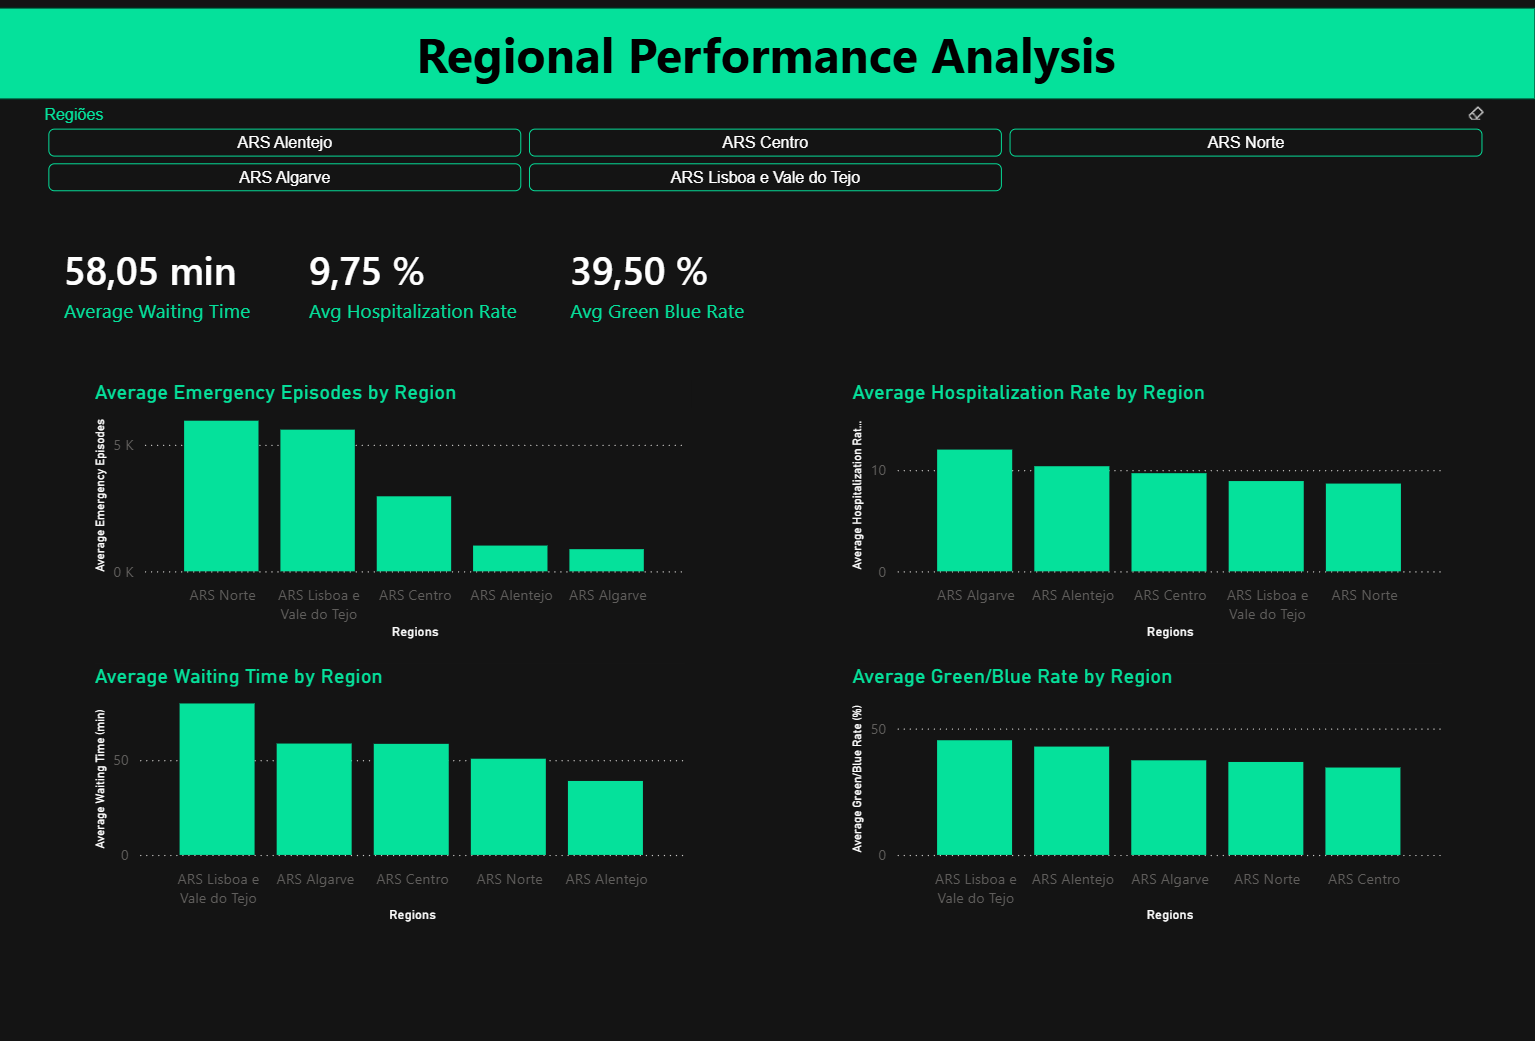

The dashboard page shown, as its layout file describes it:
{"tool":"powerbi","page":{"name":"Regional Performance","canvas":[1280,900],"ordinal":1},"visuals":[{"type":"shape","box":[0,30.2,1279.8,76.8],"z":0},{"type":"shape","box":[5.5,35.7,1270.7,65.9],"z":1},{"type":"ChicletSlicer1448559807354","fields":{"Category":["healthcare-cleaned.ars"]},"box":[36.6,107,1207.6,100.6],"z":2},{"type":"clusteredColumnChart","title":"Average Emergency Episodes by Region","fields":{"Category":["healthcare-cleaned.ars"],"Y":["healthcare-cleaned.Avg Emergency Episodes"]},"box":[77.9,339.5,500.5,220.1],"z":3},{"type":"clusteredColumnChart","title":"Average Hospitalization Rate by Region","fields":{"Category":["healthcare-cleaned.ars"],"Y":["healthcare-cleaned.Avg Hospitalization Rate"]},"box":[707.1,339.5,500.5,220.1],"z":4},{"type":"clusteredColumnChart","title":"Average Green/Blue Rate by Region","fields":{"Category":["healthcare-cleaned.ars"],"Y":["healthcare-cleaned.Avg Green Blue Rate"]},"box":[707.1,575.2,500,220],"z":5},{"type":"cardVisual","fields":{"Data":["healthcare-cleaned.Avg_waiting_time"]},"box":[36.3,200.4,203.5,118.4],"z":6},{"type":"cardVisual","fields":{"Data":["healthcare-cleaned.Avg Hospitalization Rate"]},"box":[239.8,200.4,217,118.4],"z":7},{"type":"cardVisual","fields":{"Data":["healthcare-cleaned.Avg Green Blue Rate"]},"box":[456.9,200.4,203.5,118.4],"z":8},{"type":"clusteredColumnChart","title":"Average Waiting Time by Region","fields":{"Category":["healthcare-cleaned.ars"],"Y":["healthcare-cleaned.Avg_waiting_time"]},"box":[77.9,575.2,500,220],"z":9},{"type":"slicer","fields":{"Values":["healthcare-cleaned.periodo"]},"box":[720.6,207.7,433,102.8],"z":10}]}

Visuals, with their boxes on the page's 1280x900 design canvas (x1, y1, x2, y2). These are canvas units, not pixel positions in the 1535x1041 screenshot, which may show the page scaled, cropped or inside an application window:
shape: region(0, 30, 1280, 107)
shape: region(6, 36, 1276, 102)
ChicletSlicer1448559807354 - healthcare-cleaned.ars: region(37, 107, 1244, 208)
"Average Emergency Episodes by Region" clusteredColumnChart: region(78, 340, 578, 560)
"Average Hospitalization Rate by Region" clusteredColumnChart: region(707, 340, 1208, 560)
"Average Green/Blue Rate by Region" clusteredColumnChart: region(707, 575, 1207, 795)
cardVisual - healthcare-cleaned.Avg_waiting_time: region(36, 200, 240, 319)
cardVisual - healthcare-cleaned.Avg Hospitalization Rate: region(240, 200, 457, 319)
cardVisual - healthcare-cleaned.Avg Green Blue Rate: region(457, 200, 660, 319)
"Average Waiting Time by Region" clusteredColumnChart: region(78, 575, 578, 795)
slicer - healthcare-cleaned.periodo: region(721, 208, 1154, 310)
